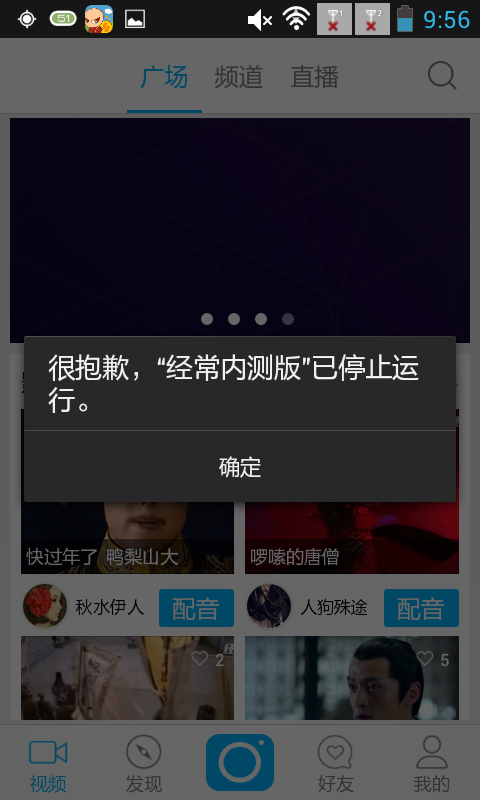alert: (21, 333, 462, 507)
